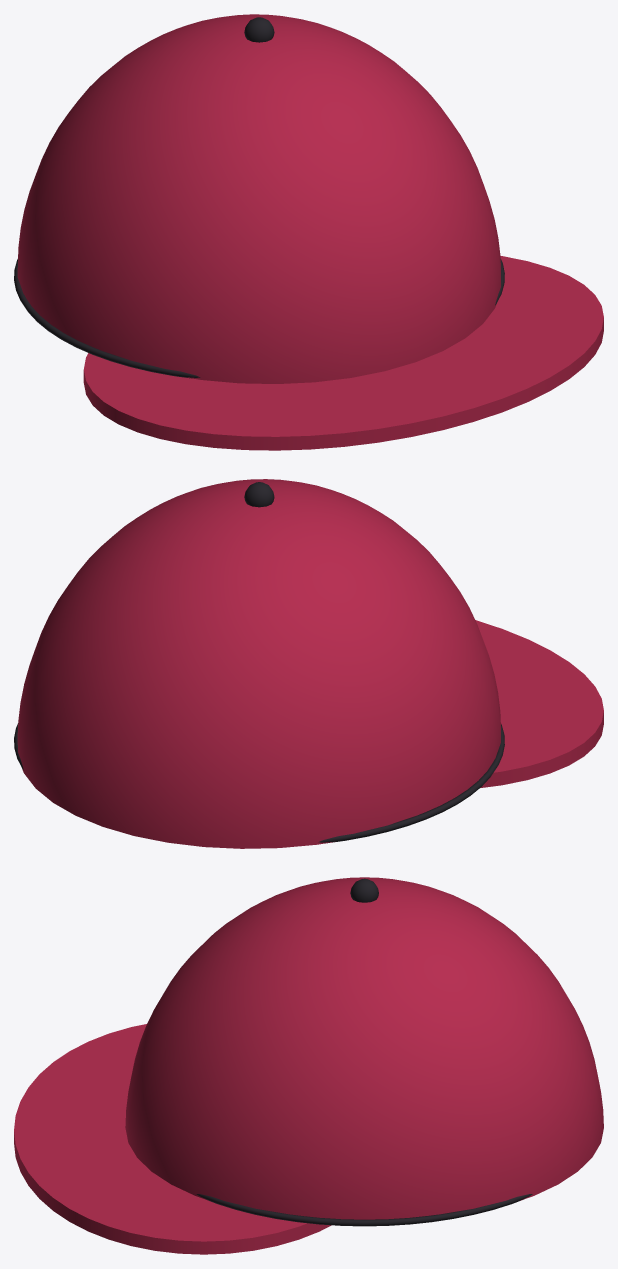
The model's file is hat.glb.
The picture shows the model from 3 angles, top to bottom: view 1: azimuth 30°, elevation 25°; view 2: azimuth 150°, elevation 25°; view 3: azimuth 270°, elevation 25°; orthographic projection. The views are drawn at different scales.
Parts seen in each view (by area): view 1: DRAFT_hat; view 2: DRAFT_hat; view 3: DRAFT_hat.
Part boxes in pixels (x1,y1,x2,y2): DRAFT_hat: (14, 14, 603, 450); DRAFT_hat: (14, 479, 603, 848); DRAFT_hat: (14, 877, 603, 1254).
Size of the model in its own units: 0.22 by 0.121 by 0.2459.
